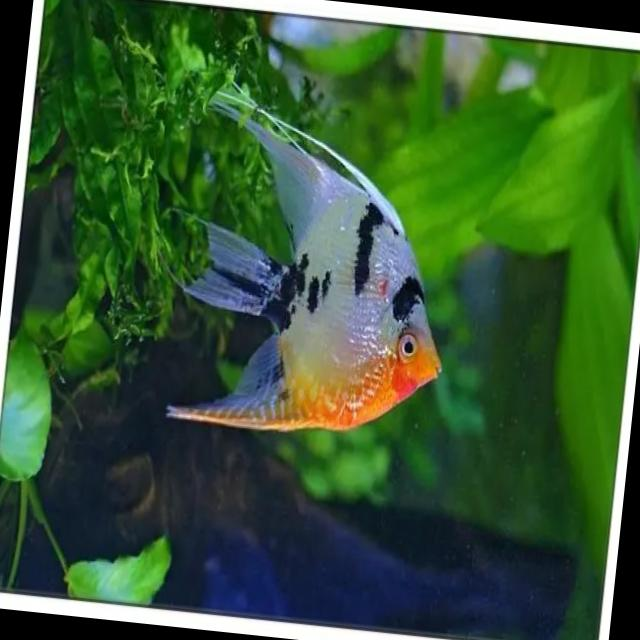AngelFish: (167, 82, 466, 456)
